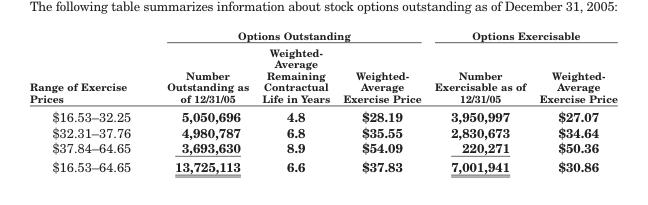table: (28, 28, 616, 174)
table column: (28, 28, 148, 174), (148, 28, 254, 174), (427, 28, 531, 174), (335, 28, 427, 174), (531, 28, 616, 174), (254, 28, 335, 174)
table column header: (28, 28, 616, 106)
table row: (28, 43, 616, 106), (28, 106, 616, 124), (28, 156, 616, 174), (28, 139, 616, 156), (28, 28, 616, 43), (28, 124, 616, 139)
table spanning cell: (28, 28, 148, 106), (148, 28, 427, 43), (427, 28, 616, 43)
